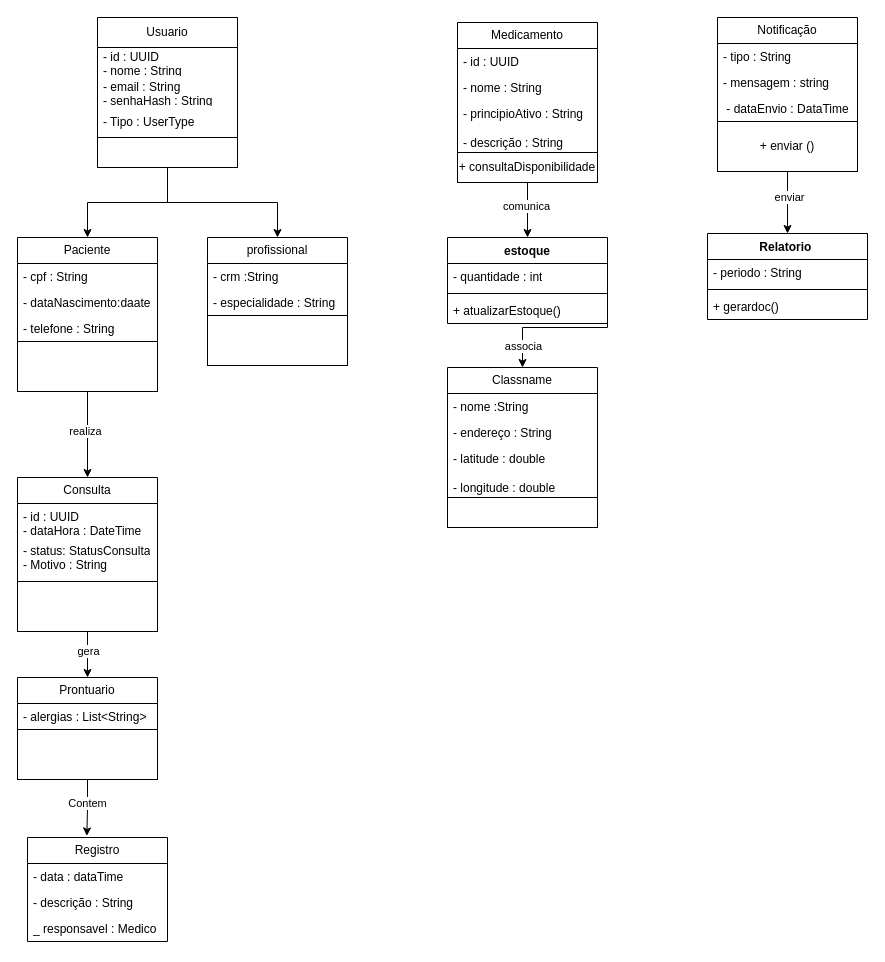
Some shapes in this 885 by 962 pixel diagram are drawn without their labels. The centre of each missing label's shape, as x and y in pixels:
"+ acessarAgenda" belongs at point (277, 340).
"+ agendar () + cancelar () + confirmar ()" belongs at point (87, 606).
"+ buscarProxima()" belongs at point (522, 512).
"+ geRegistros() + adicionarRegistros" belongs at point (87, 754).
"+ gethistorico()" belongs at point (87, 366).
"+ login(email, senha)" belongs at point (167, 152).
